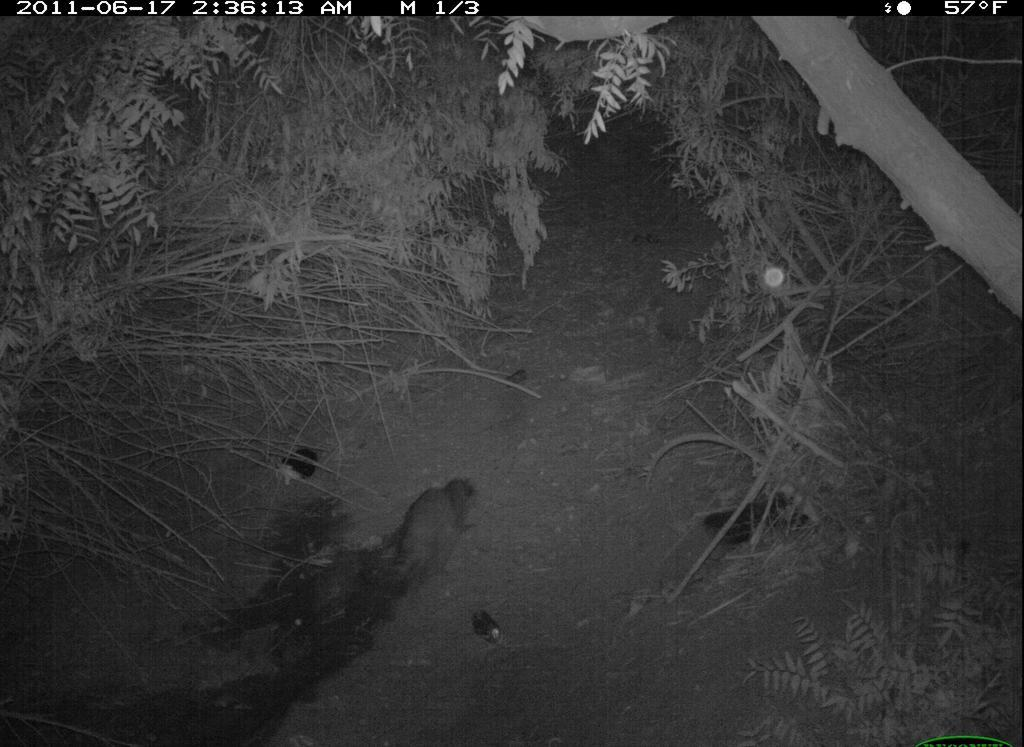raccoon: (369, 473, 484, 597)
